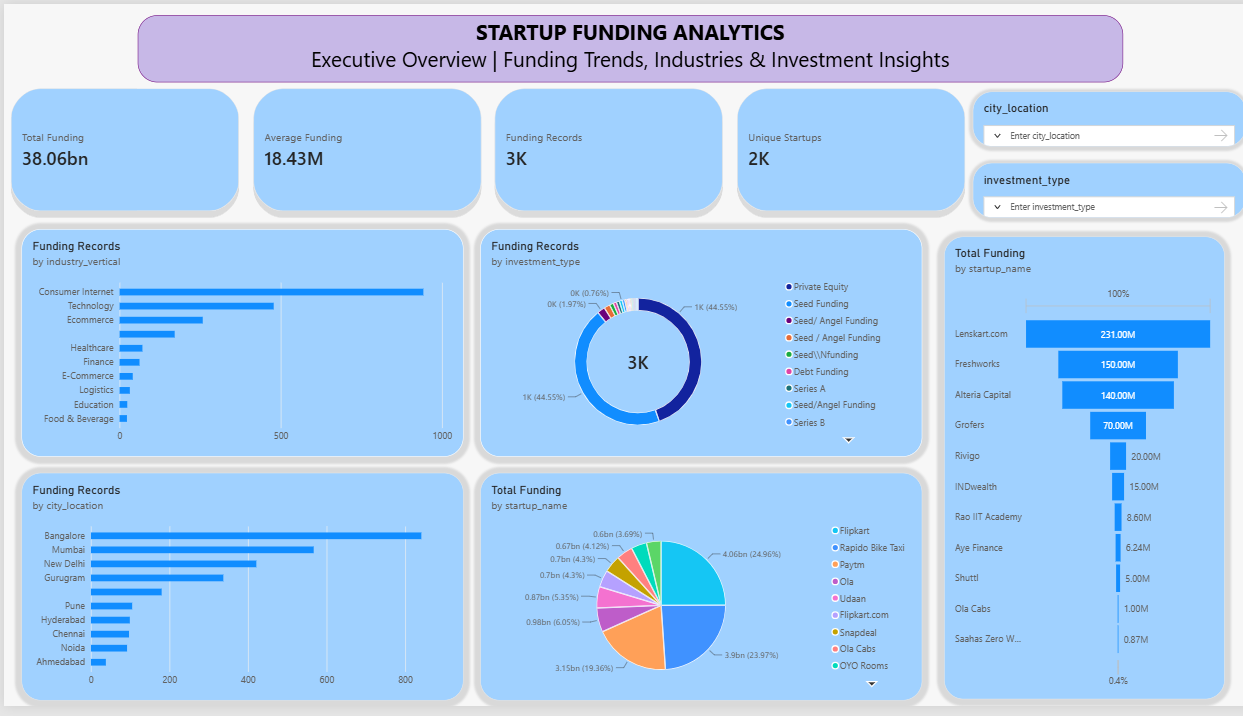

This screenshot's page, from the dashboard's own definition file:
{"tool":"powerbi","page":{"name":"Page 1","canvas":[1920,1080],"ordinal":0},"visuals":[{"type":"cardVisual","title":"Total Funding","fields":{"Data":["startup_funding_cleaned.Total Funding"]},"box":[0,120,372.5,210],"z":0},{"type":"cardVisual","fields":{"Data":["startup_funding_cleaned.Unique Startups"]},"box":[1117.5,120,372.5,210],"z":1000},{"type":"cardVisual","fields":{"Data":["startup_funding_cleaned.Average Funding"]},"box":[372.5,120,372.5,210],"z":2000},{"type":"cardVisual","fields":{"Data":["startup_funding_cleaned.Funding Records"]},"box":[745,120,372.5,210],"z":2001},{"type":"textbox","title":"STARTUP FUNDING ANALYTICS","box":[205.8,17.4,1515.7,102.9],"z":2002},{"type":"clusteredBarChart","fields":{"Category":["startup_funding_cleaned.industry_vertical"],"Y":["startup_funding_cleaned.Funding Records"]},"box":[26.2,345.3,680.2,350],"z":2003},{"type":"clusteredBarChart","fields":{"Category":["startup_funding_cleaned.city_location"],"Y":["startup_funding_cleaned.Funding Records"]},"box":[26.2,720.4,680,350],"z":2004},{"type":"donutChart","fields":{"Category":["startup_funding_cleaned.investment_type"],"Y":["startup_funding_cleaned.Funding Records"]},"box":[732.6,345.3,680,350],"z":2005},{"type":"pieChart","fields":{"Category":["startup_funding_cleaned.startup_name"],"Y":["startup_funding_cleaned.Total Funding"]},"box":[732.6,720.4,680,350],"z":2007},{"type":"textSlicer","fields":{"Values":["startup_funding_cleaned.investment_type"]},"box":[1490.7,244.5,420,85],"z":2008},{"type":"funnel","fields":{"Category":["startup_funding_cleaned.startup_name"],"Y":["startup_funding_cleaned.Total Funding"]},"box":[1446.7,358.3,431.7,711.7],"z":2009},{"type":"textSlicer","fields":{"Values":["startup_funding_cleaned.city_location"]},"box":[1491.3,134.3,420,85],"z":2010}]}

Visuals, with their boxes in screenshot pixels (x1, y1, x2, y2), scaled from the page's 1920x1080 canvas onto the 1243x716 screenshot:
"Total Funding" cardVisual: crop(0, 80, 241, 219)
cardVisual - startup_funding_cleaned.Unique Startups: crop(723, 80, 965, 219)
cardVisual - startup_funding_cleaned.Average Funding: crop(241, 80, 482, 219)
cardVisual - startup_funding_cleaned.Funding Records: crop(482, 80, 723, 219)
"STARTUP FUNDING ANALYTICS" textbox: crop(133, 12, 1114, 80)
clusteredBarChart - startup_funding_cleaned.industry_vertical x startup_funding_cleaned.Funding Records: crop(17, 229, 457, 461)
clusteredBarChart - startup_funding_cleaned.city_location x startup_funding_cleaned.Funding Records: crop(17, 478, 457, 710)
donutChart - startup_funding_cleaned.investment_type x startup_funding_cleaned.Funding Records: crop(474, 229, 915, 461)
pieChart - startup_funding_cleaned.startup_name x startup_funding_cleaned.Total Funding: crop(474, 478, 915, 710)
textSlicer - startup_funding_cleaned.investment_type: crop(965, 162, 1237, 218)
funnel - startup_funding_cleaned.startup_name x startup_funding_cleaned.Total Funding: crop(937, 238, 1216, 709)
textSlicer - startup_funding_cleaned.city_location: crop(965, 89, 1237, 145)
